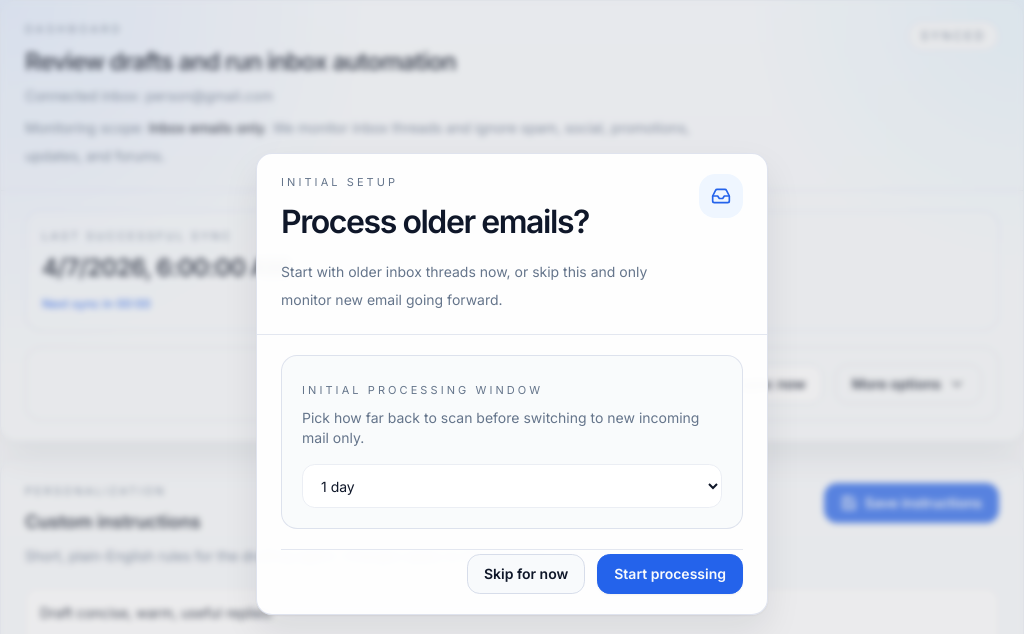
Test: DashboardPage › opens initial processing modal after Gmail connects and starts processing
expect the heading "Process older emails?" is shown: met, box 281,202 -> 589,241
Select "3 days" in the dropdown named "initial processing window" at (512, 486), box 302,464 -> 722,508
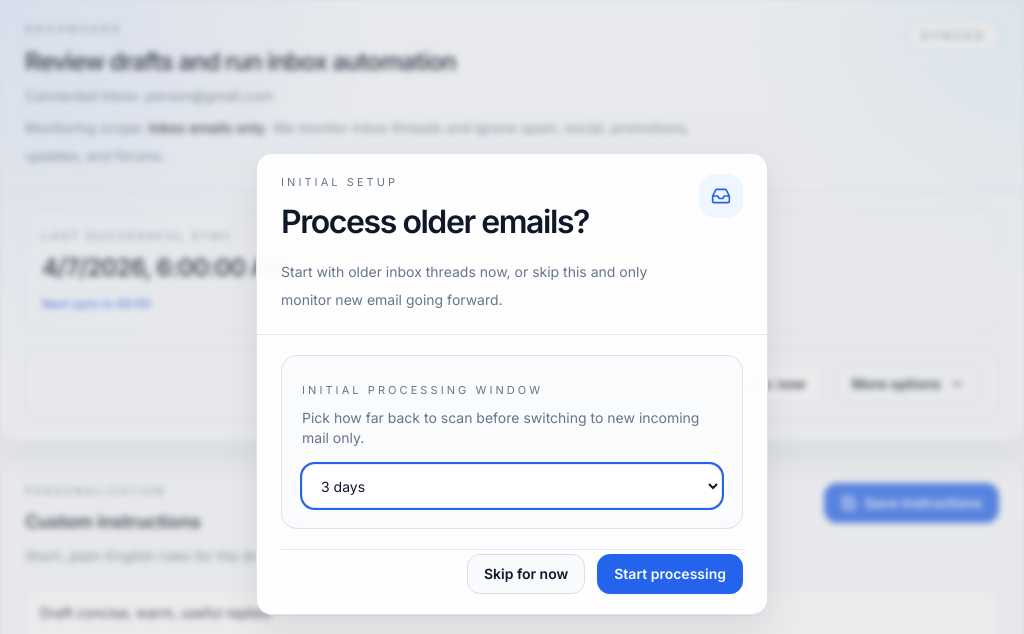
Click the button "Start processing" at (670, 574), box 597,554 -> 743,594
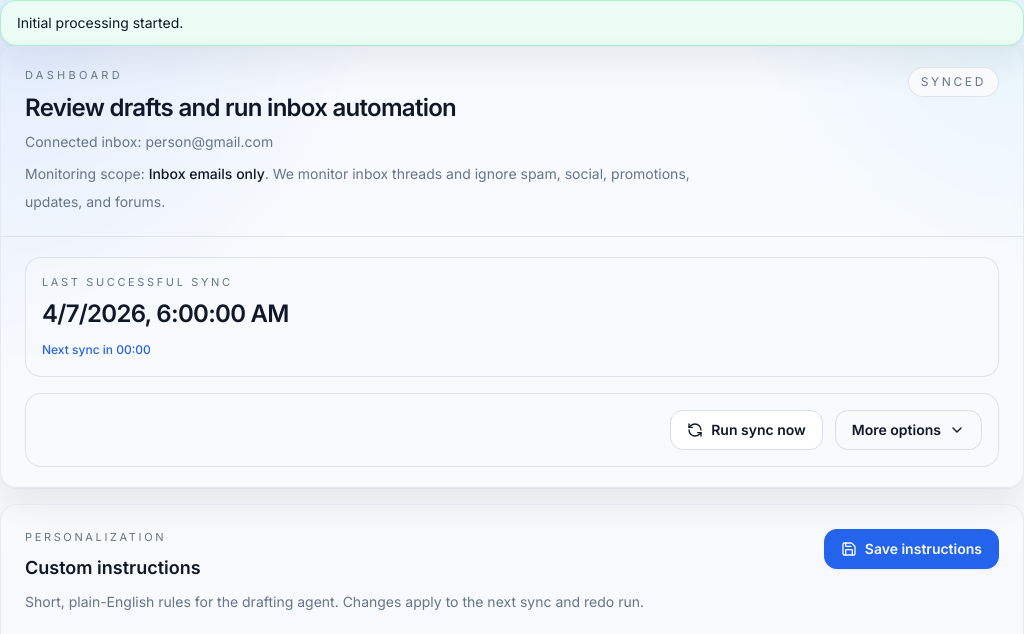
expect the heading "Process older emails?" is gone: met
expect the text "Initial processing started." is shown: met, box 0,0 -> 1023,46
